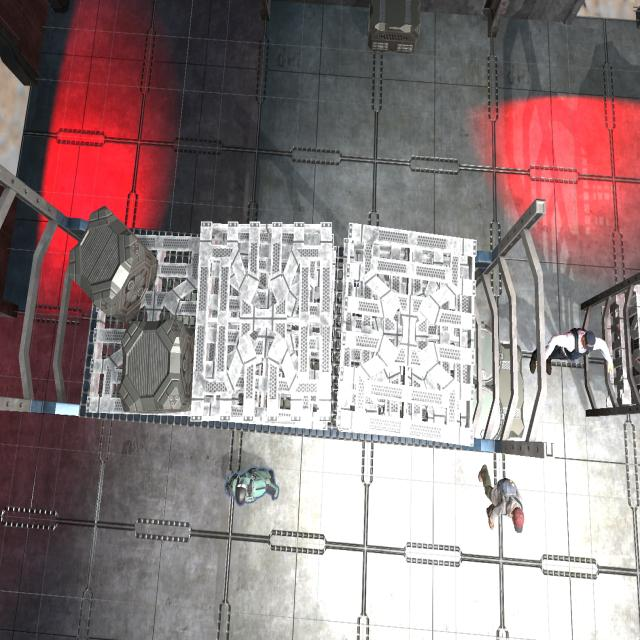thiefs: (477, 458, 529, 545)
